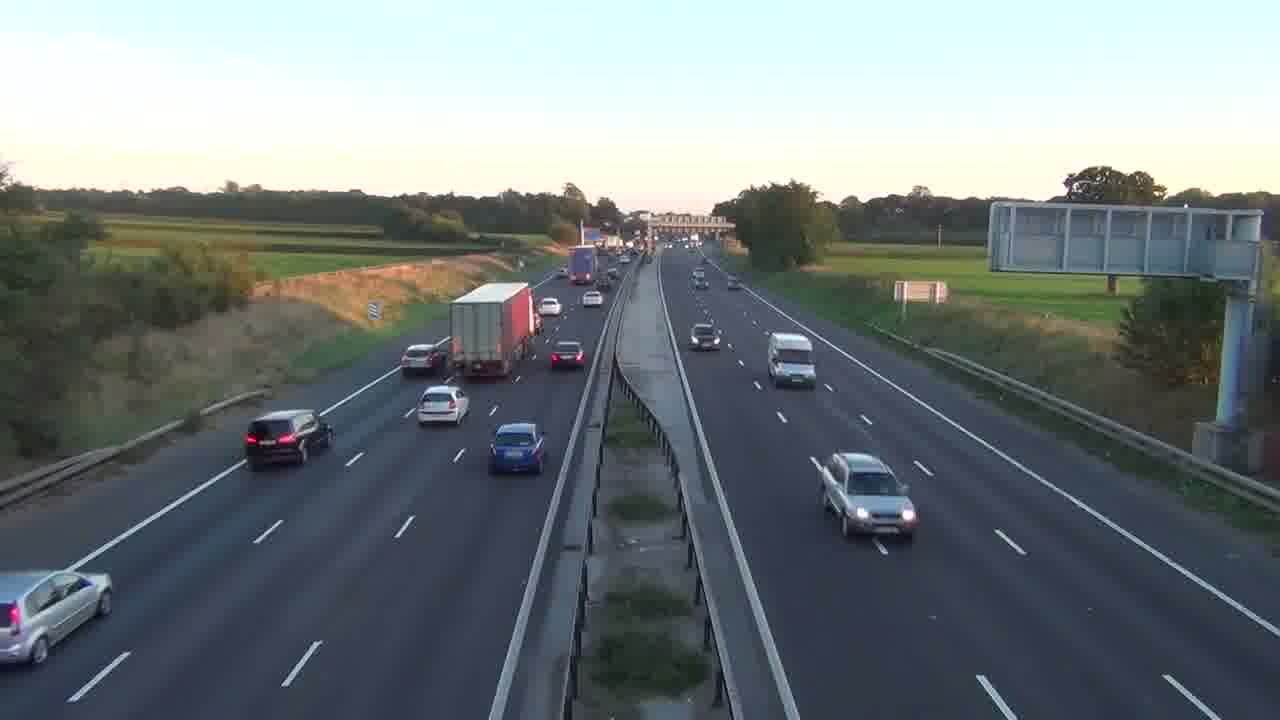car: (0, 567, 113, 667), (810, 451, 920, 539), (490, 421, 546, 475), (767, 332, 817, 389), (417, 384, 471, 426), (399, 343, 442, 377), (548, 339, 585, 371), (689, 321, 722, 351), (538, 296, 562, 316)
truck: (449, 281, 539, 381), (566, 245, 596, 286)
